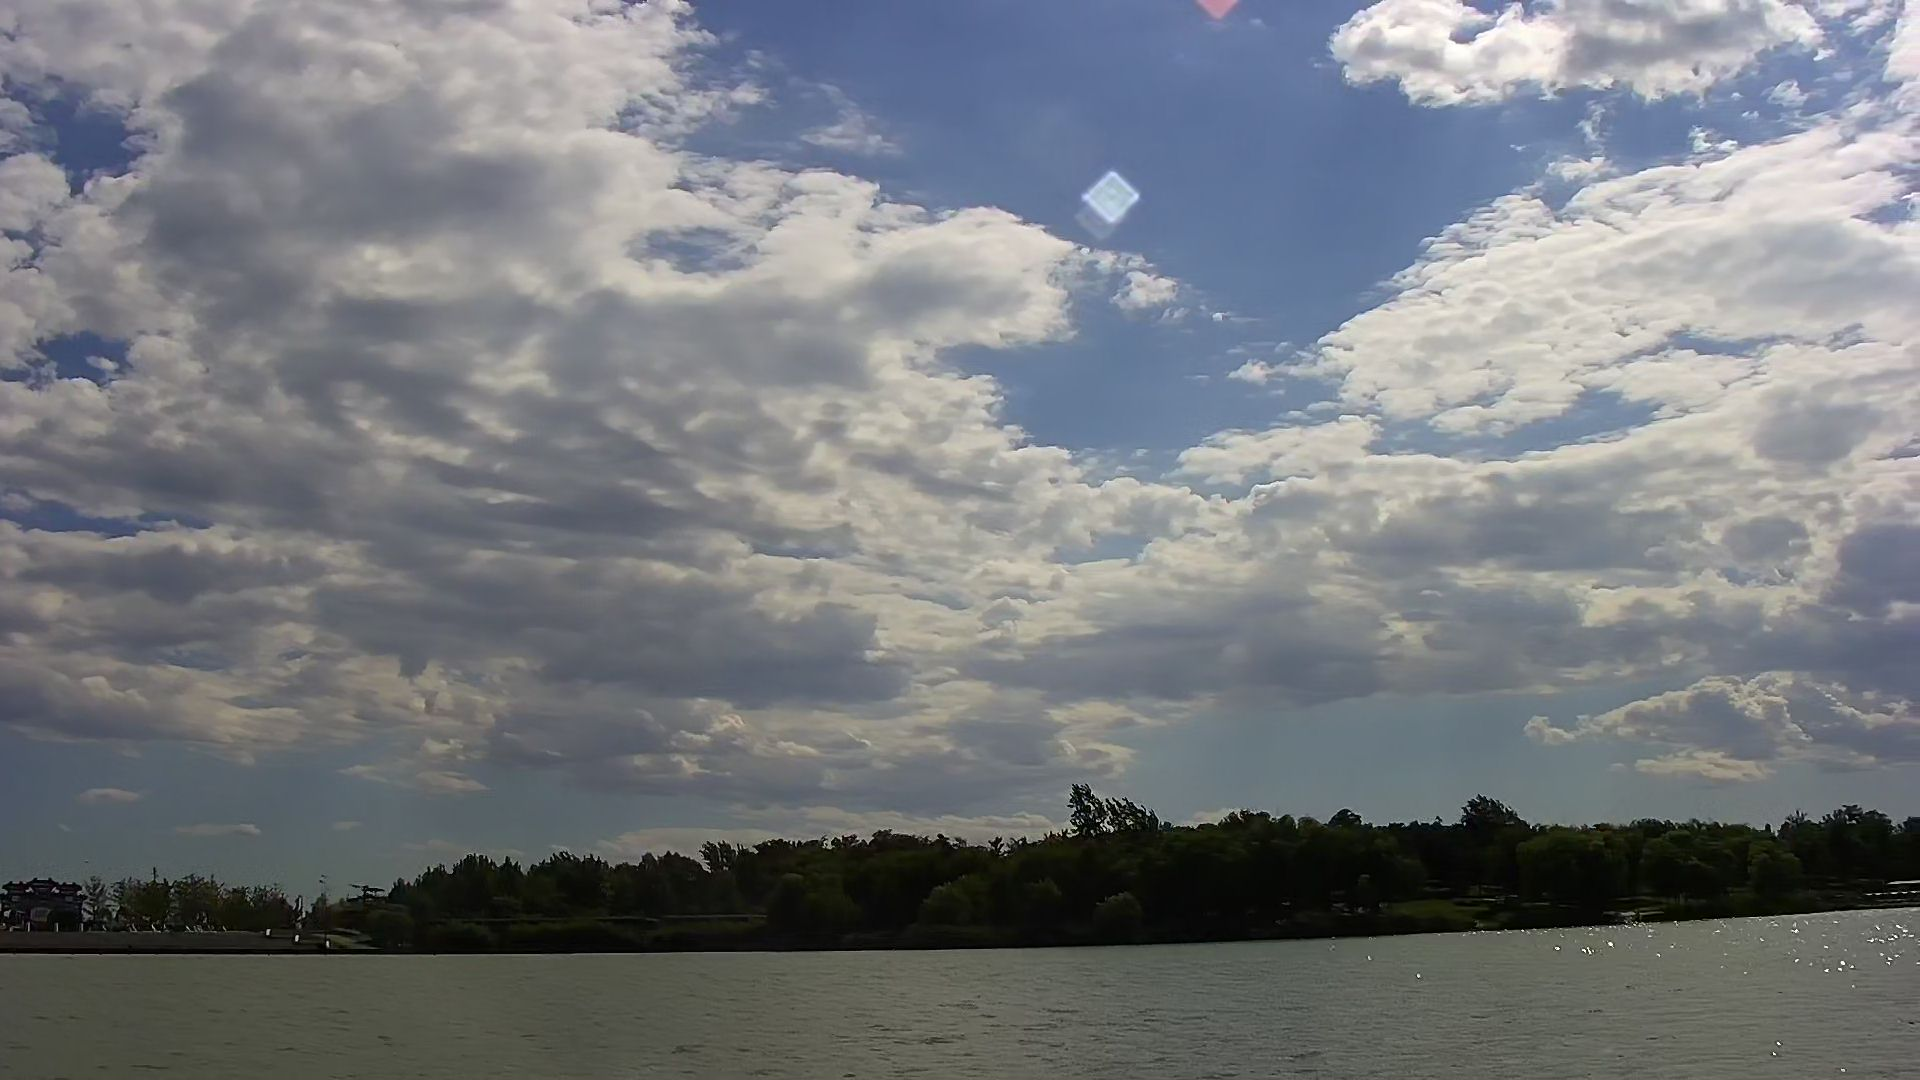harbor: (1, 916, 381, 956)
